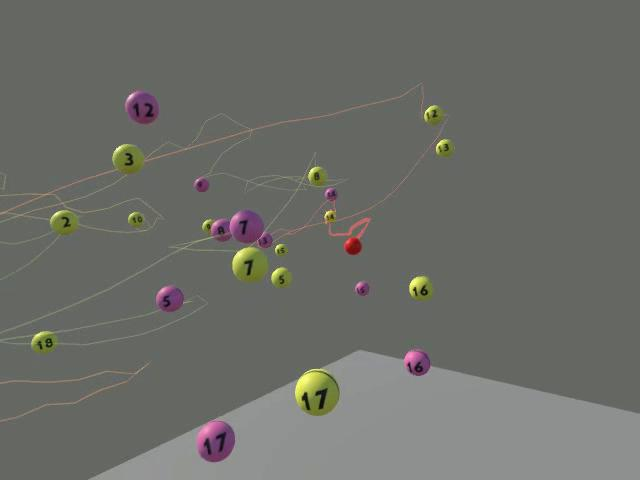ball_02_yellow: (49, 209, 78, 235)
ball_03_yellow: (112, 143, 144, 172)
ball_05_pink: (155, 286, 183, 311)
ball_05_yellow: (270, 266, 292, 288)
ball_07_pink: (230, 209, 263, 243)
ball_07_yellow: (232, 247, 267, 283)
ball_08_pink: (210, 218, 231, 242)
ball_08_yellow: (308, 167, 327, 186)
ball_09_pink: (194, 177, 208, 192)
ball_12_pink: (124, 90, 159, 124)
ball_12_yellow: (423, 104, 442, 124)
ball_13_pink: (257, 231, 272, 248)
ball_13_yellow: (435, 139, 454, 157)
ball_14_pink: (324, 188, 337, 200)
ball_14_yellow: (323, 210, 335, 223)
ball_15_pink: (354, 280, 369, 296)
ball_15_yellow: (274, 243, 287, 256)
ball_16_pink: (403, 350, 430, 376)
ball_16_yellow: (408, 276, 433, 300)
ball_17_pink: (197, 421, 234, 462)
ball_17_yellow: (294, 368, 339, 415)
ball_18_yellow: (31, 331, 58, 353)
ball_20_yellow: (128, 212, 145, 227)
ball_unknown: (201, 218, 213, 234)
user_cursor: (343, 238, 361, 254)
